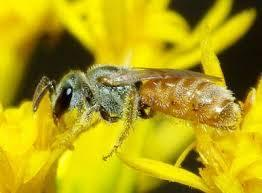Lasioglossum: (27, 55, 255, 156)
